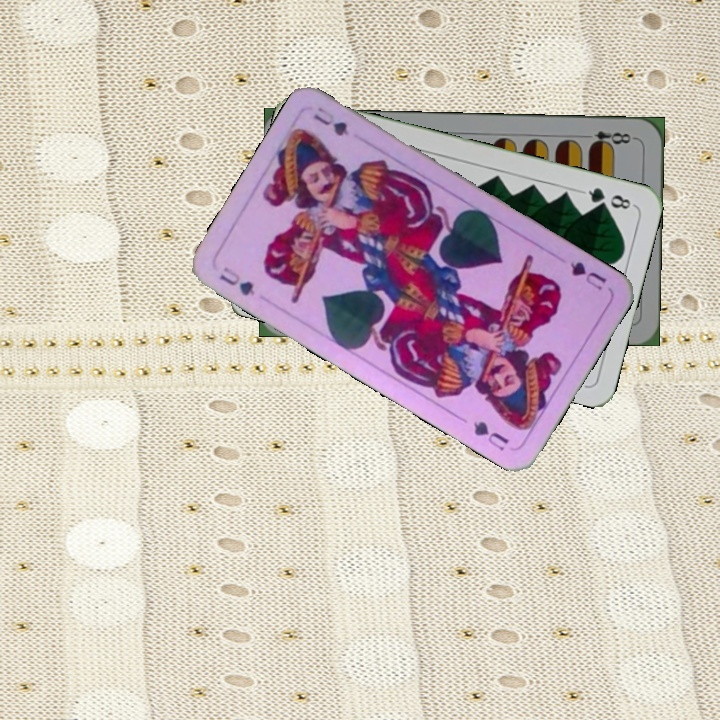E8: (579, 127, 638, 150)
G8: (578, 183, 637, 212)
GU: (215, 262, 258, 299), (566, 257, 609, 293)
